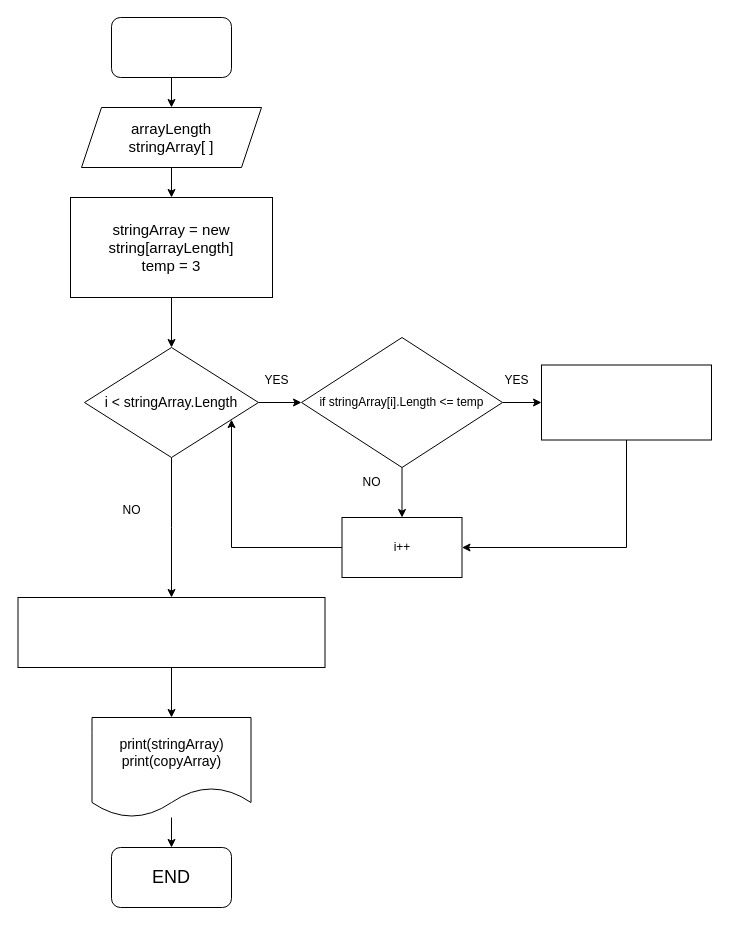
Some shapes in this 729 by 925 pixel diagram are drawn without their labels. Each missing label, with the centre of its shape:
copyArray=copyArray.Where(x => x != null).ToArray();: the point at 171,632
copyArray[i] = stringArray[i]: the point at 626,402
START: the point at 171,47
